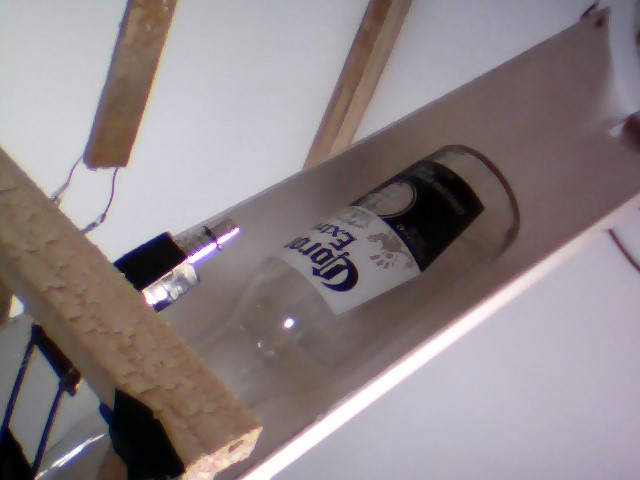vidrio: (167, 133, 532, 405)
